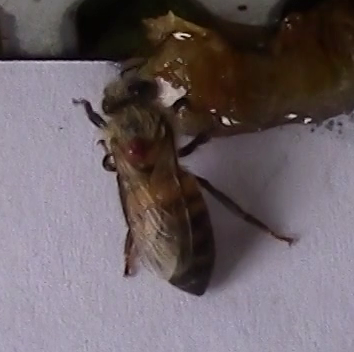Varroa destructor: (124, 134, 148, 168)
